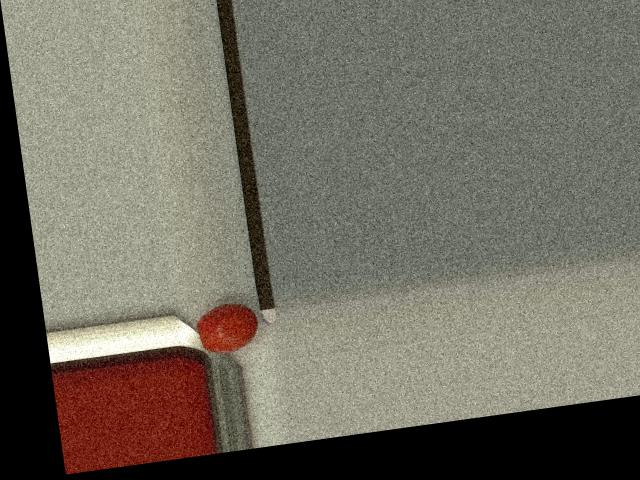tomato: (194, 299, 261, 356)
